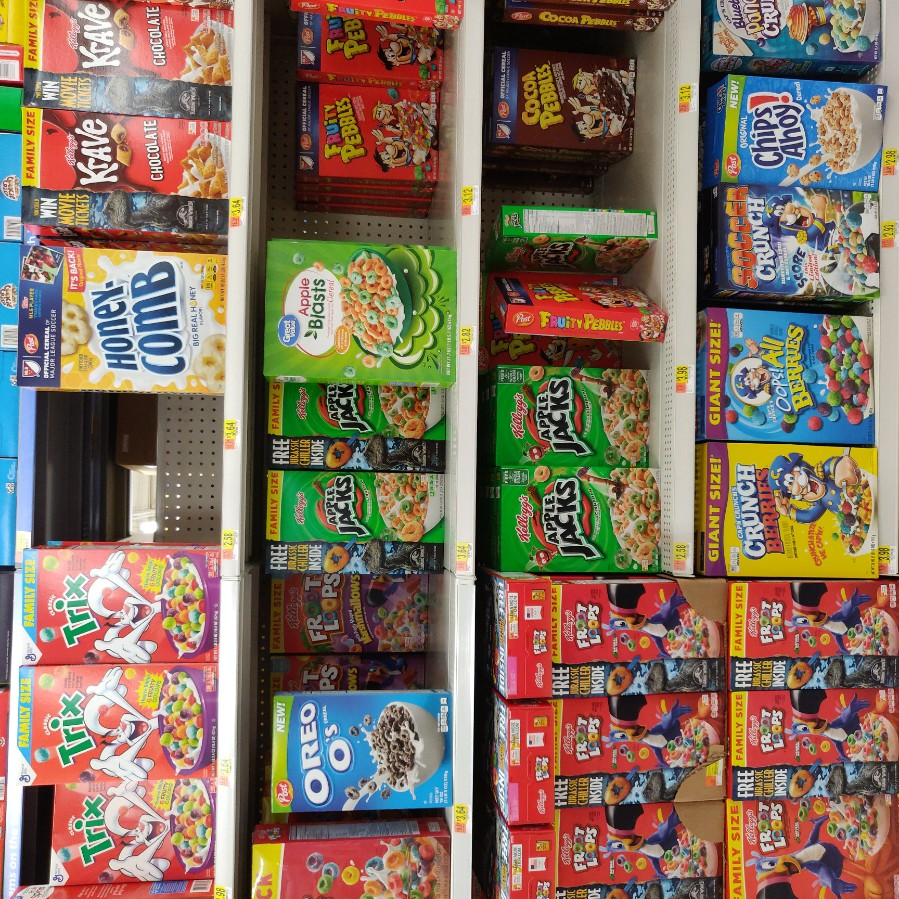Chips Ahoys-565717529: (715, 70, 888, 185)
Honey Comb- 009288857: (19, 242, 229, 396)
Oreo-563424384: (266, 685, 454, 817)
